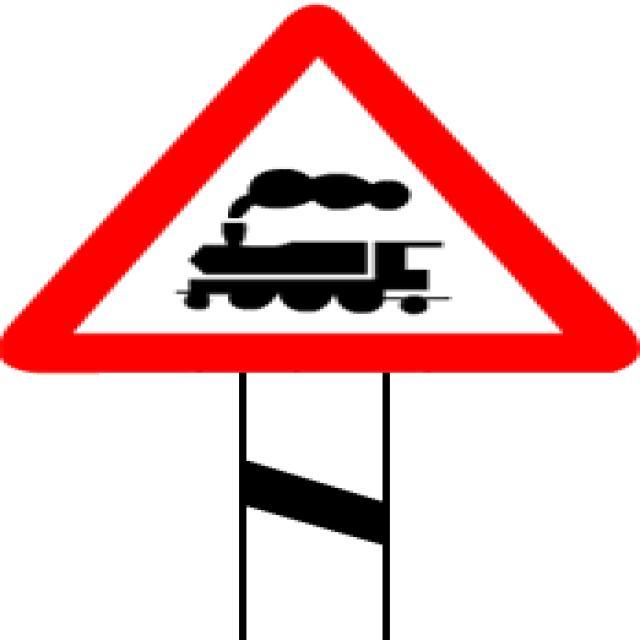unguarded level crossing: (22, 21, 608, 370)
